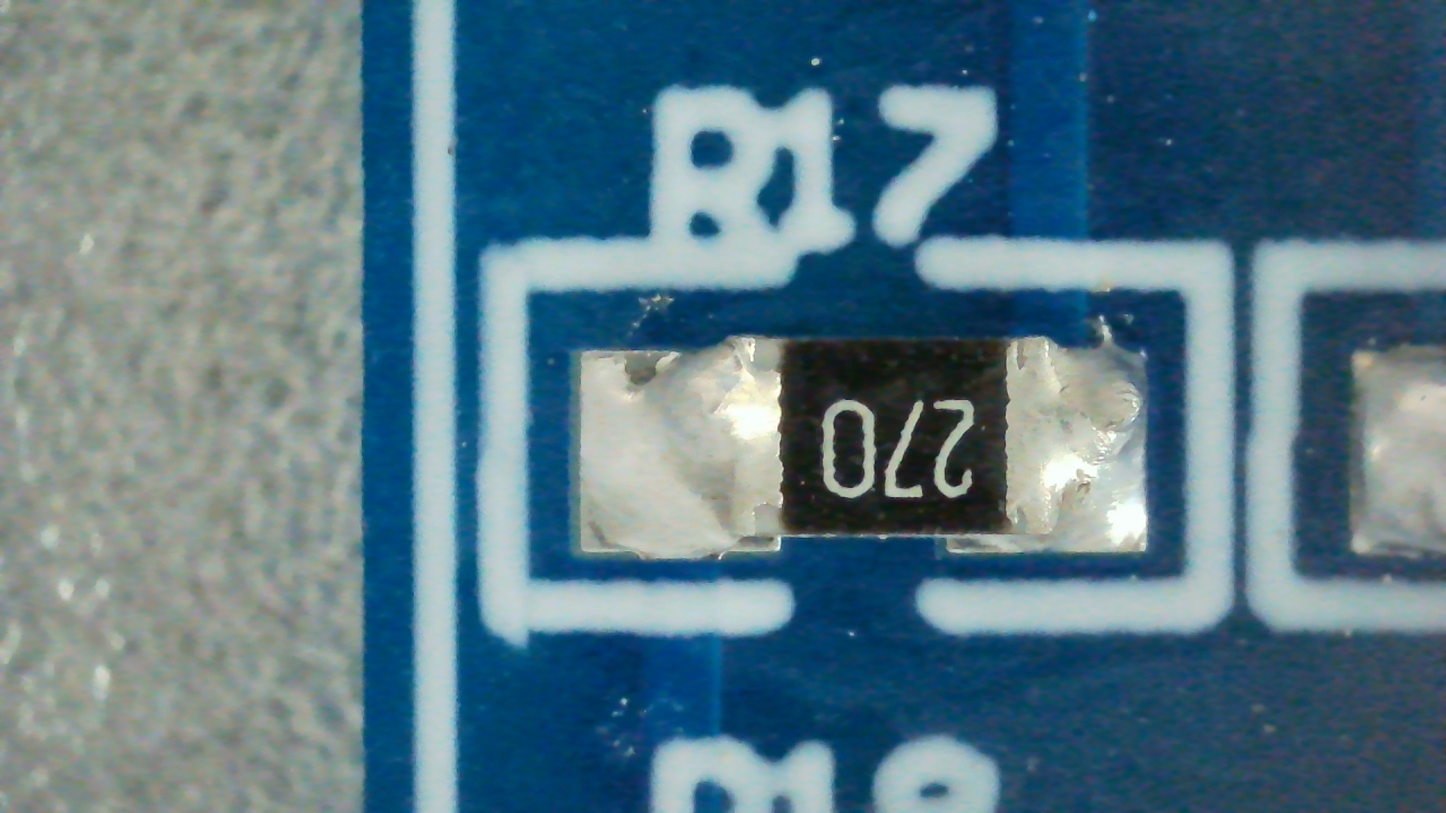NG: (581, 317, 1146, 559)
